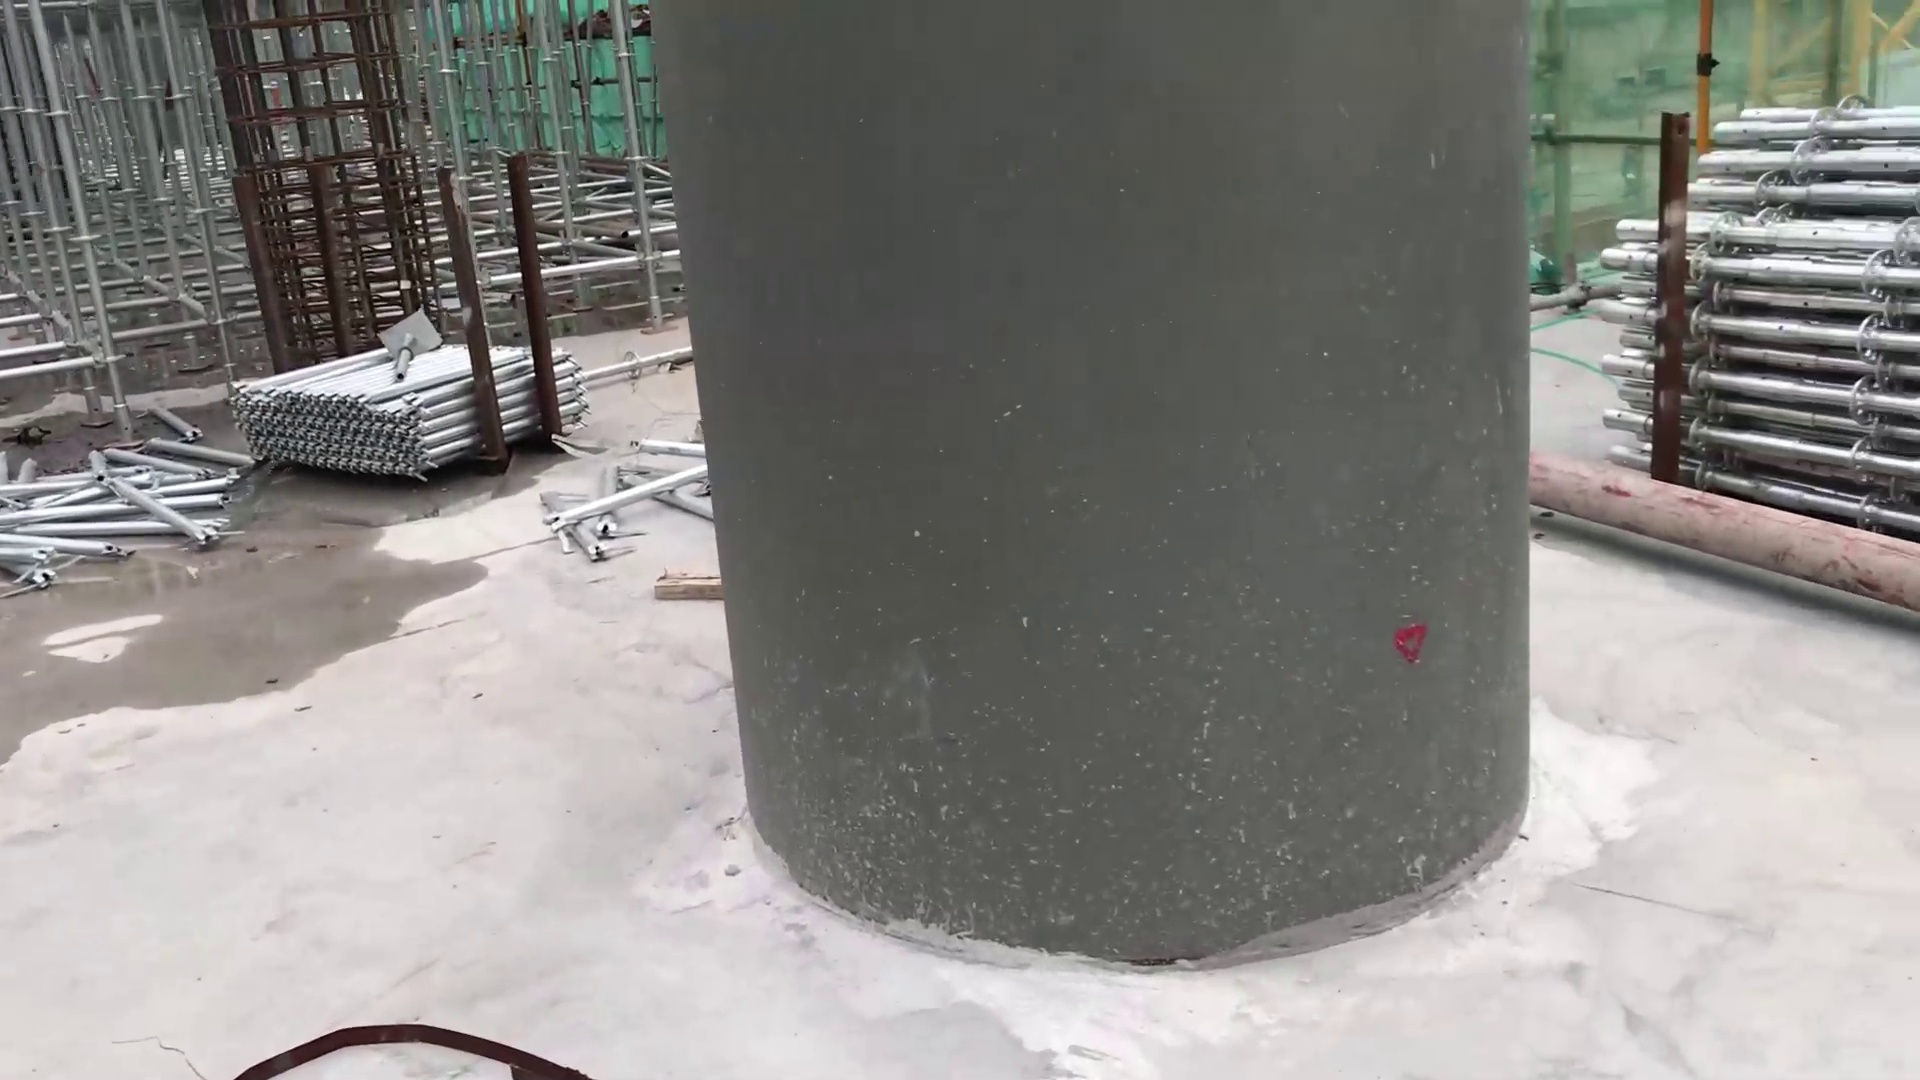scaffold: (1610, 94, 1920, 537), (225, 331, 592, 481)
